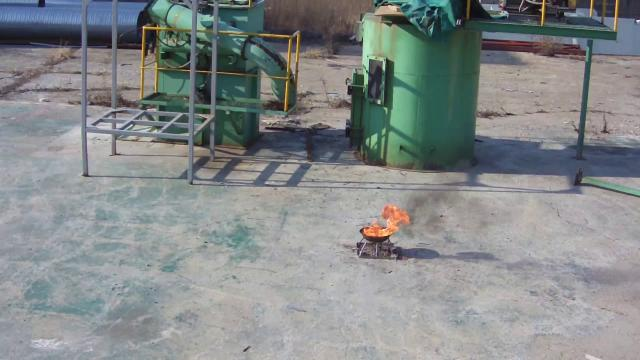fire: (363, 204, 411, 236)
smoke: (402, 158, 492, 231)
